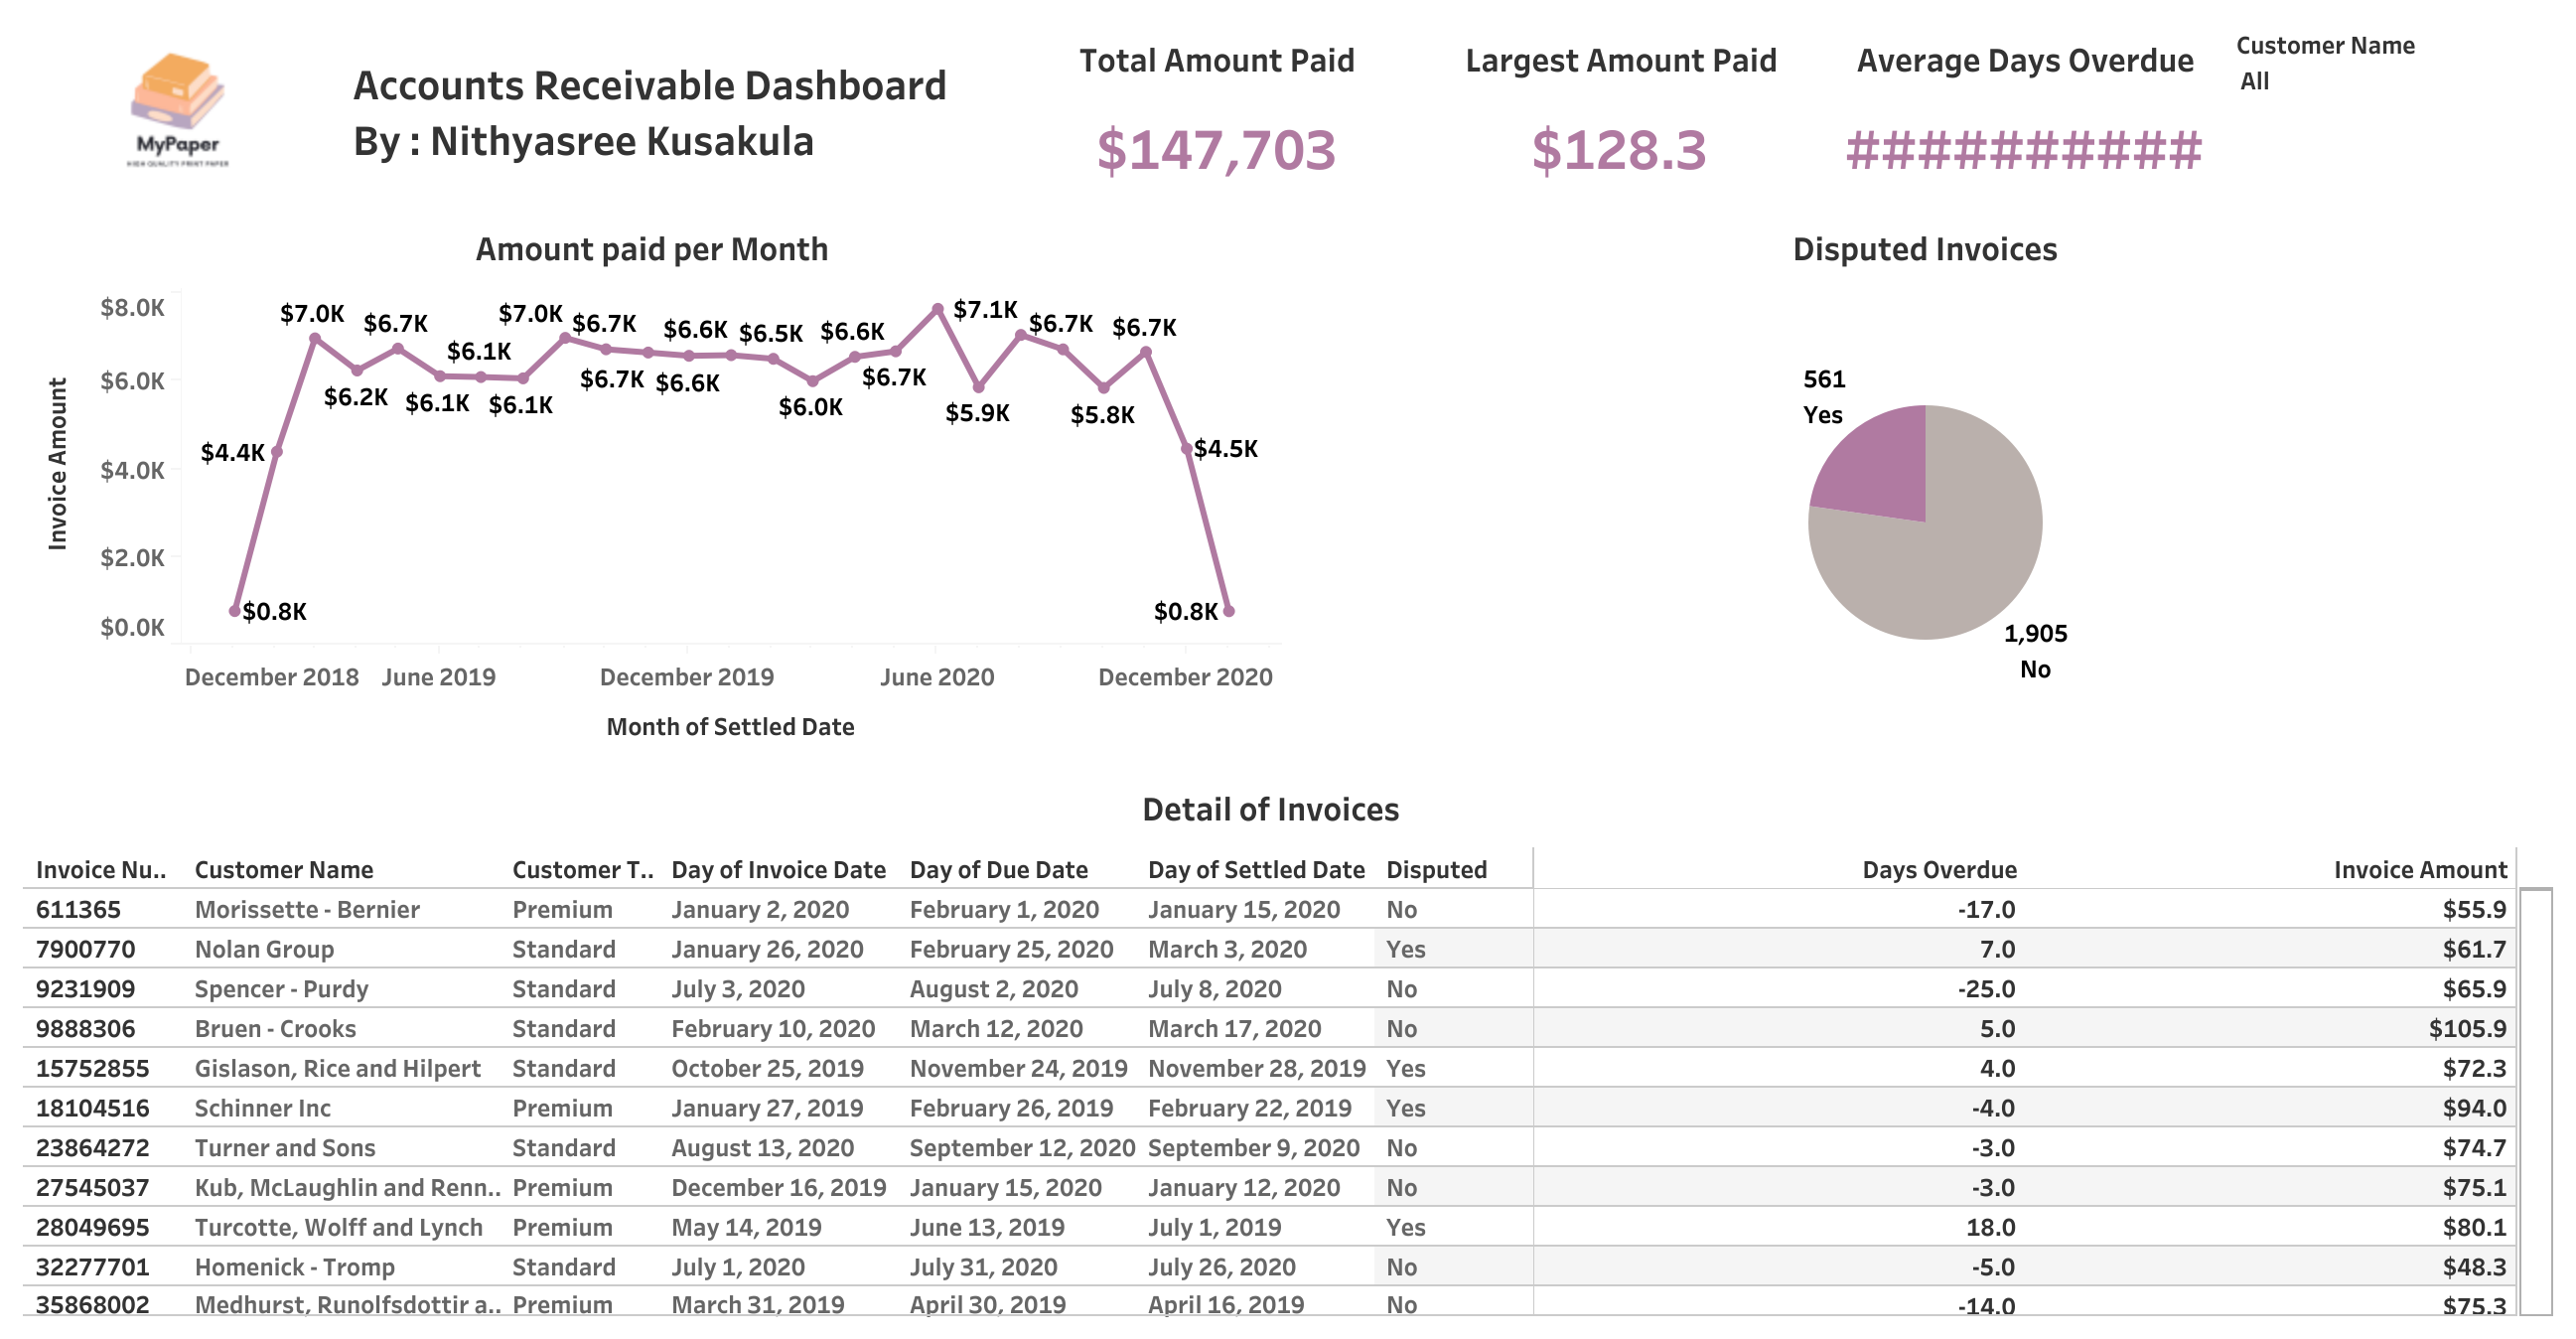

Layout of this report page (visuals, bound fields, positions):
{"tool":"tableau","page":{"name":"Accounts Receivable Dashboard","canvas":[1000,1000],"units":"permille","ordinal":0},"visuals":[{"type":"image","param":"/Users/nithyasreekusakula/Documents/Tableau Projects/MyPaper/MyPaper.png","box":[6.4,10.6,125.5,140.8]},{"type":"text","box":[131.8,10.6,270.1,140.8]},{"type":"worksheet","title":"Total Amount Paid","mark":"Automatic","box":[401.9,10.6,152.8,140.8]},{"type":"worksheet","title":"Max Amount Paid","mark":"Automatic","box":[554.7,10.6,152.8,140.8]},{"type":"worksheet","title":"Avg Days Overdue","mark":"Automatic","box":[707.4,10.6,152.8,140.8]},{"type":"filter","title":"Amount paid per Month","param":"[federated.1gej4dx0ctbozn1042hte1jsyx9x].[none:CustomerName:nk]","box":[860.2,10.6,133.4,140.8]},{"type":"worksheet","title":"Amount paid per Month","mark":"Automatic","rows":["InvoiceAmount"],"cols":["SettledDate"],"box":[6.4,151.4,493.7,419]},{"type":"worksheet","title":"Disputed Invoices","mark":"Pie","box":[500,151.4,493.6,419]},{"type":"worksheet","title":"Detail of Invoices","mark":"Automatic","rows":["invoiceNumber","CustomerName","Customer Type","InvoiceDate","DueDate","SettledDate","Disputed"],"box":[6.4,570.4,987.3,419]}]}

Visuals, with their boxes on the dashboard's canvas, which has no fixed pixel size, in thousandths of its width and height (x1, y1, x2, y2). These are canvas units, not pixel positions in the 2576x1339 screenshot, which may show the page scaled, cropped or inside an application window:
image: rect(6, 11, 132, 151)
text: rect(132, 11, 402, 151)
"Total Amount Paid" worksheet: rect(402, 11, 555, 151)
"Max Amount Paid" worksheet: rect(555, 11, 708, 151)
"Avg Days Overdue" worksheet: rect(707, 11, 860, 151)
"Amount paid per Month" filter: rect(860, 11, 994, 151)
"Amount paid per Month" worksheet: rect(6, 151, 500, 570)
"Disputed Invoices" worksheet (Pie marks): rect(500, 151, 994, 570)
"Detail of Invoices" worksheet: rect(6, 570, 994, 989)
